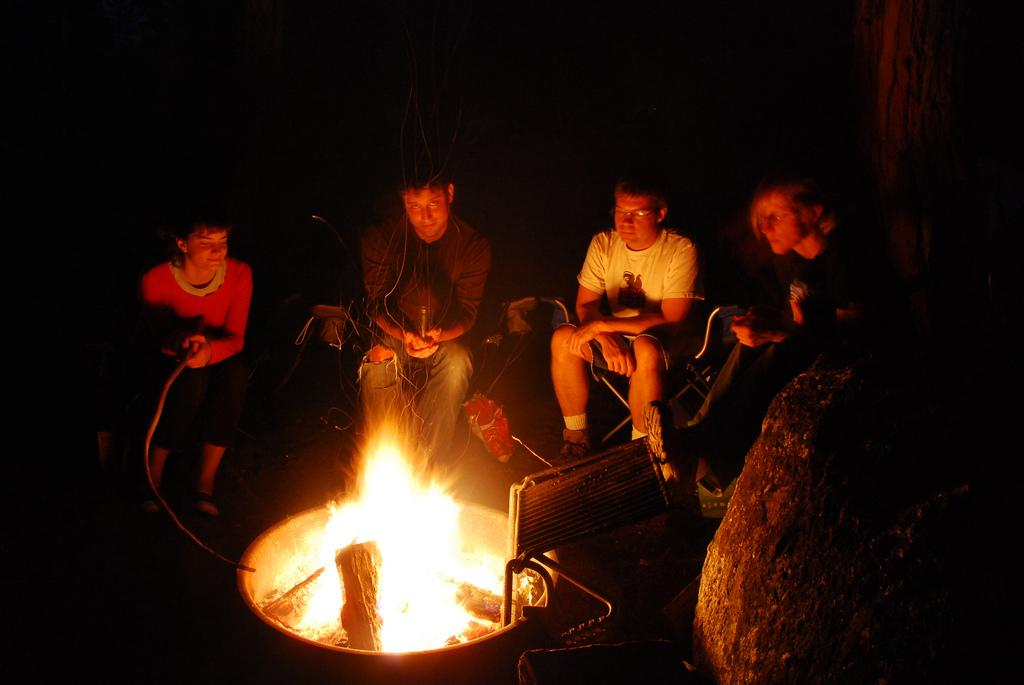fire: (350, 428, 470, 647)
